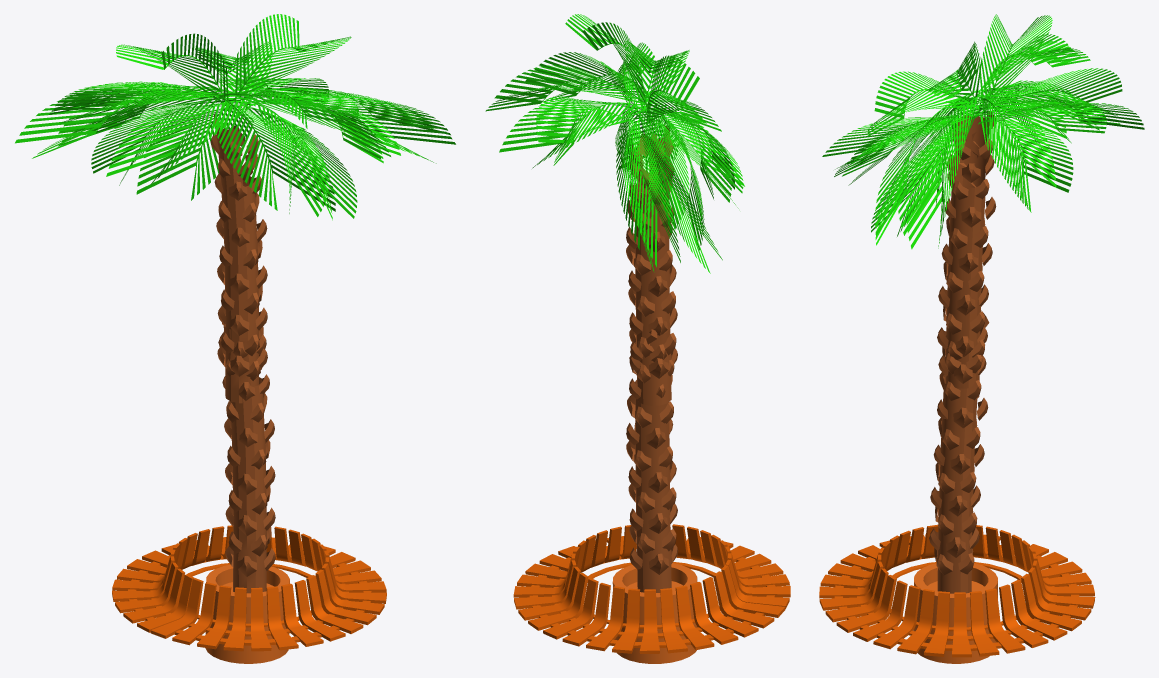
File: palma.fbx
3 renders of one model, left to right at view 1: azimuth 30°, elevation 25°; view 2: azimuth 150°, elevation 25°; view 3: azimuth 270°, elevation 25°, orthographic.
Parts seen in each view (by area): view 1: BezierCurve.027; view 2: BezierCurve.027; view 3: BezierCurve.027.
Part boxes in pixels (x1,y1,x2,y2): BezierCurve.027: (15, 14, 455, 663); BezierCurve.027: (485, 14, 790, 663); BezierCurve.027: (819, 14, 1144, 663).
Bounding box in the file's own units: 273 × 485 × 231.
